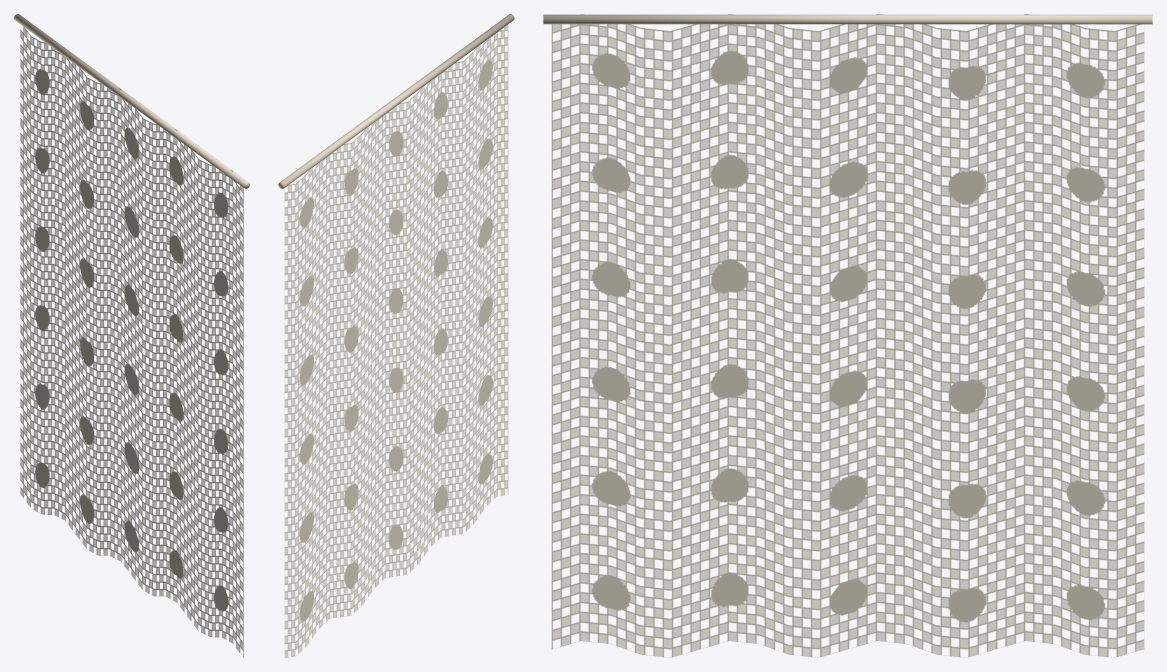
Rendered from curtain-lace.glb.
3 views of the same model, side by side, from view 1: azimuth 30°, elevation 25°; view 2: azimuth 150°, elevation 25°; view 3: azimuth 270°, elevation 25° (orthographic). The views are drawn at different scales.
Parts seen in each view (by area): view 1: sheer, hem-rod; view 2: sheer, hem-rod; view 3: sheer, hem-rod.
Boxes of the visible parts, <box> form: sheer: <box>20,26,243,657</box>; hem-rod: <box>14,14,249,188</box>; sheer: <box>284,23,508,657</box>; hem-rod: <box>278,14,514,188</box>; sheer: <box>551,14,1144,657</box>; hem-rod: <box>543,14,1152,24</box>.
Bounding box in the file's own units: 0.03 × 2.16 × 1.85.
Materials: 2 (1 with a texture image).
